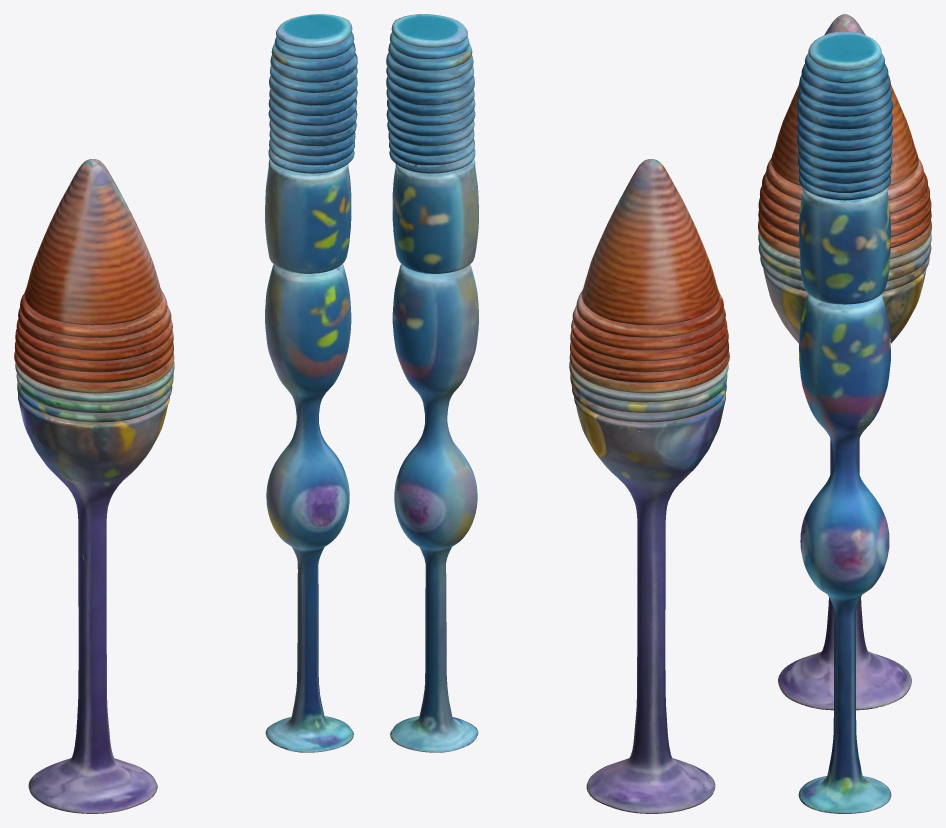
Rendered from sensory-cells.glb.
3 renders of one model, left to right at view 1: azimuth 30°, elevation 25°; view 2: azimuth 150°, elevation 25°; view 3: azimuth 270°, elevation 25°, orthographic. The views are drawn at different scales.
Visible parts, largest first — view 1: Object_4; view 2: Object_4; view 3: Object_4.
Part boxes in pixels (bbox=[...]): Object_4: bbox=[14, 14, 357, 813]; Object_4: bbox=[386, 14, 729, 813]; Object_4: bbox=[758, 14, 931, 813].
Size of the model in its own units: 0.969 by 2 by 0.4207.
1 material, 1 textured.
